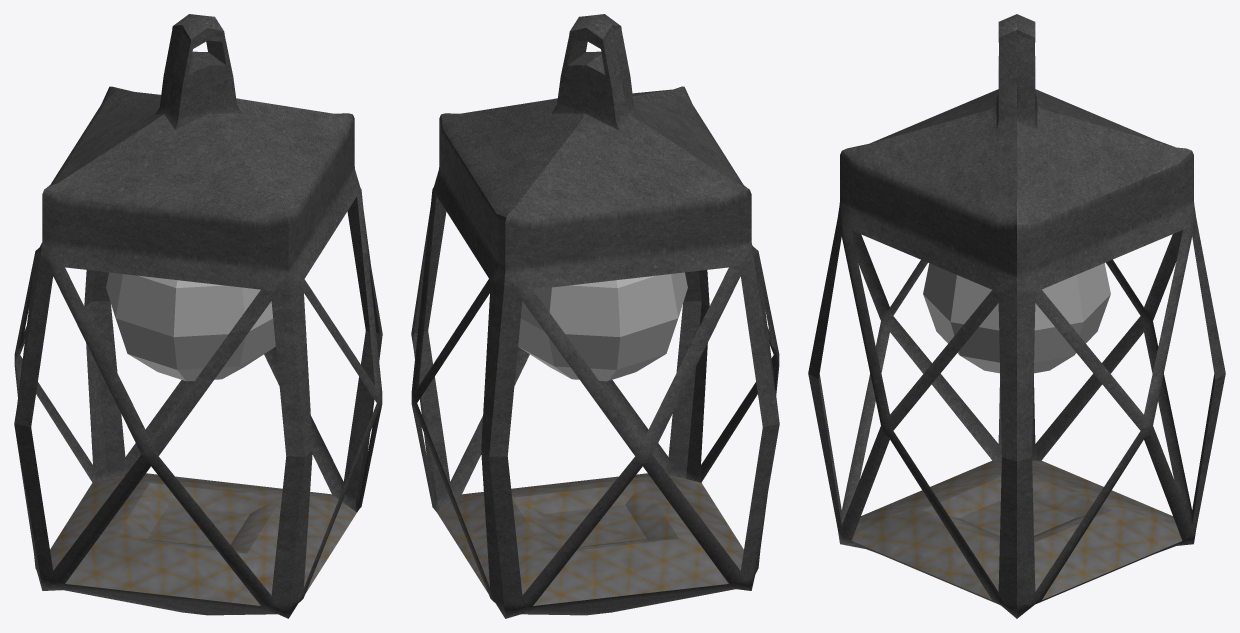
The model's file is Lamp_01_PixelArt.fbx.
3 renders of one model, left to right at view 1: azimuth 30°, elevation 25°; view 2: azimuth 150°, elevation 25°; view 3: azimuth 270°, elevation 25°, orthographic.
Parts seen in each view (by area): view 1: Lamp_01, Bulb_01; view 2: Lamp_01, Bulb_01; view 3: Lamp_01, Bulb_01.
Part boxes in pixels (x1,y1,x2,y2): Lamp_01: [14, 14, 382, 618]; Bulb_01: [106, 272, 275, 381]; Lamp_01: [411, 14, 779, 618]; Bulb_01: [518, 272, 687, 381]; Lamp_01: [808, 14, 1225, 618]; Bulb_01: [923, 263, 1110, 373].
Size of the model in its own units: 0.5879 by 0.9063 by 0.5879.
Materials: 2 (1 with a texture image).
